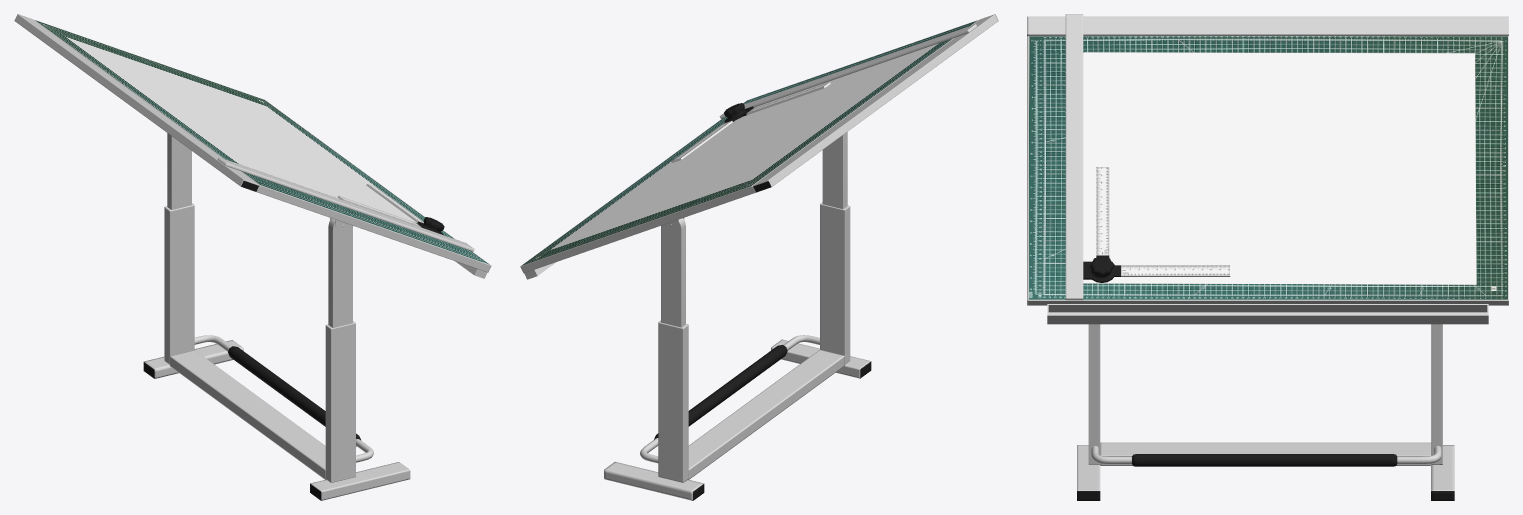
The model's file is Tisch.fbx.
3 renders of one model, left to right at view 1: azimuth 30°, elevation 25°; view 2: azimuth 150°, elevation 25°; view 3: azimuth 270°, elevation 25°, orthographic. The views are drawn at different scales.
Visible parts, largest first — view 1: Schreibtisch_Arbeitsplatte, Schreibtisch_Base, Schreibtisch_Schieber, Schreibtisch_Lineal; view 2: Schreibtisch_Arbeitsplatte, Schreibtisch_Base, Schreibtisch_Schieber, Schreibtisch_Lineal; view 3: Schreibtisch_Arbeitsplatte, Schreibtisch_Base, Schreibtisch_Schieber, Schreibtisch_Lineal.
Boxes of the visible parts, box(x1,y1,x2,y2) form: Schreibtisch_Arbeitsplatte: box(14, 14, 491, 278); Schreibtisch_Base: box(143, 133, 410, 500); Schreibtisch_Schieber: box(217, 157, 474, 251); Schreibtisch_Lineal: box(337, 184, 444, 234); Schreibtisch_Arbeitsplatte: box(520, 14, 998, 279); Schreibtisch_Base: box(604, 132, 871, 500); Schreibtisch_Schieber: box(719, 24, 977, 118); Schreibtisch_Lineal: box(671, 82, 830, 162); Schreibtisch_Arbeitsplatte: box(1027, 16, 1508, 324); Schreibtisch_Base: box(1077, 324, 1454, 500); Schreibtisch_Schieber: box(1065, 14, 1083, 300); Schreibtisch_Lineal: box(1083, 167, 1230, 282).
Size of the model in its own units: 162 by 219 by 245.
